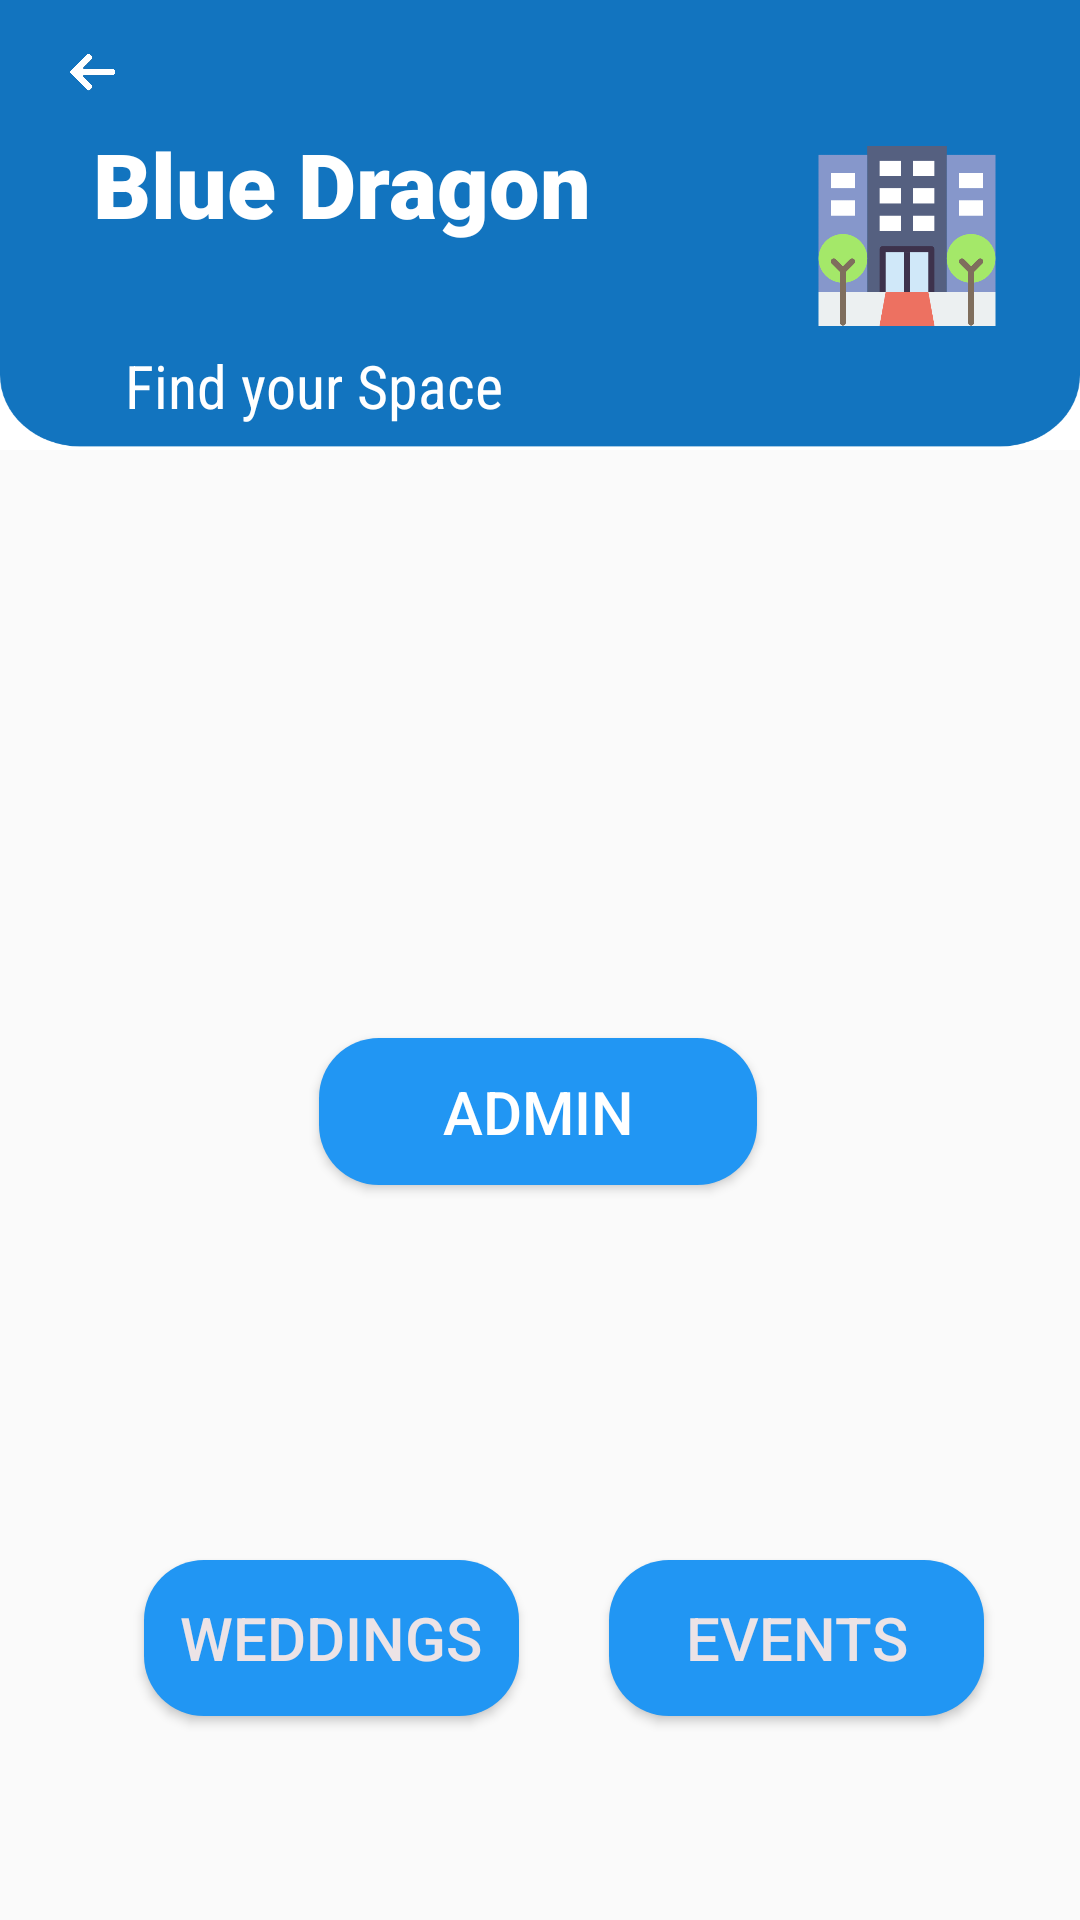

Named icons in this screenshot (1080px x 1920px) and their bounding boxes, (x1, y1, x2, y2):
back: (70, 54, 115, 91)
emhotel: (818, 146, 996, 326)
